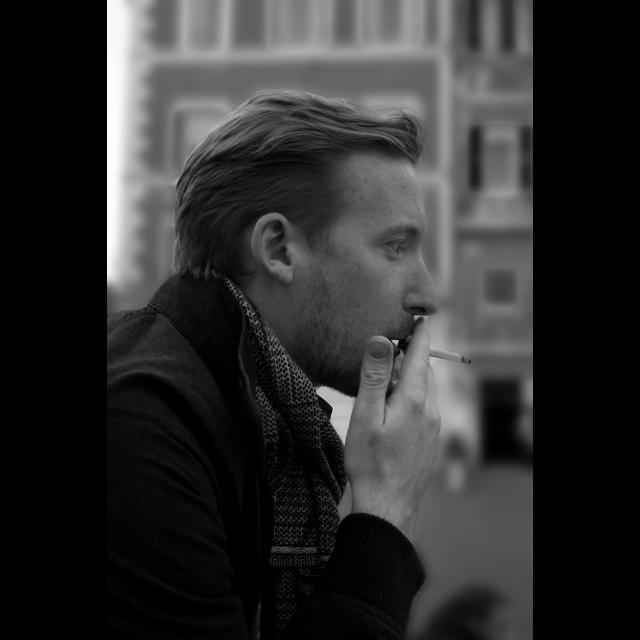rokok: (420, 341, 474, 374)
